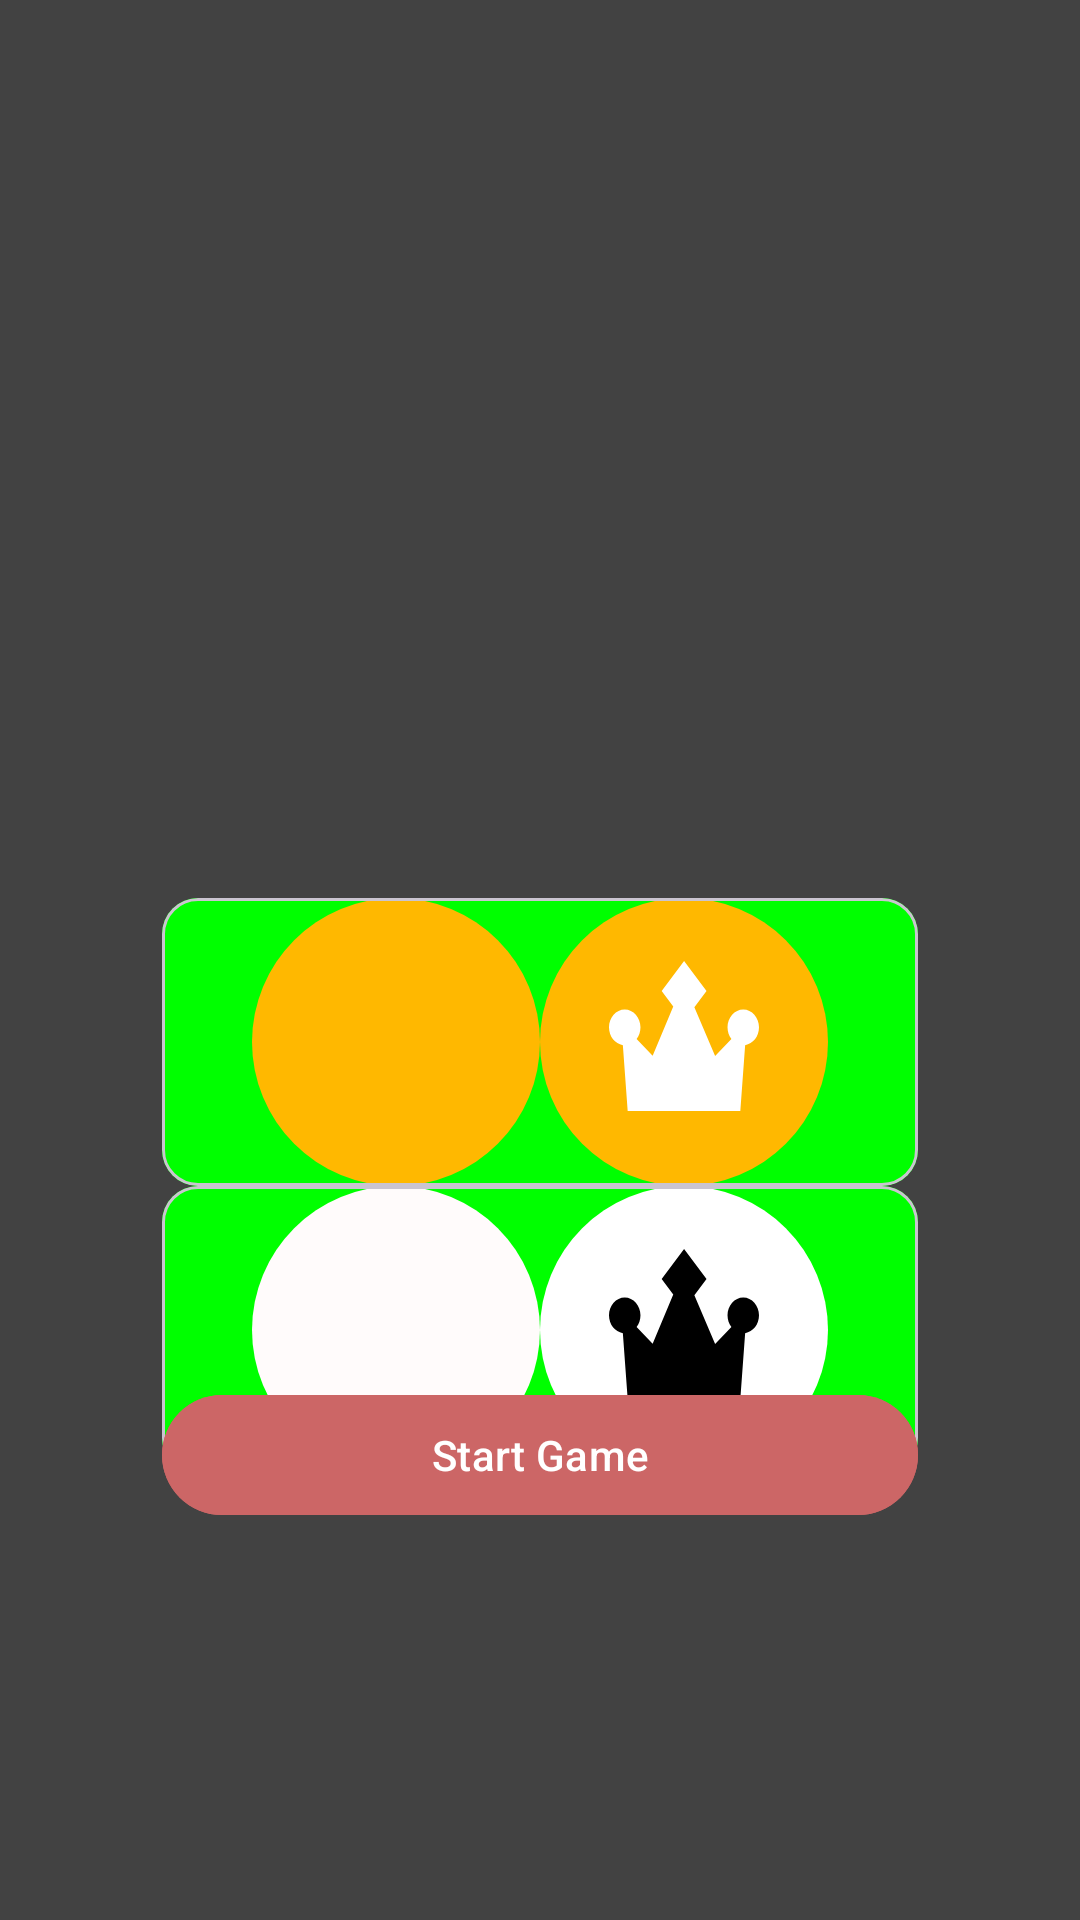

Where to tap for icons on this 1080w x 1920h app screen, as (x,y):
rpiece: (396,1042)
